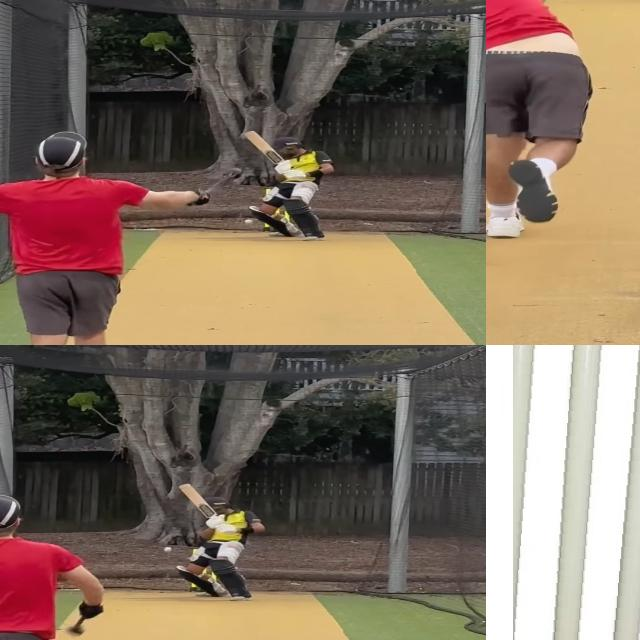Cricket ball: (163, 546, 173, 553), (244, 219, 254, 224)
Stumps: (513, 345, 640, 640)
